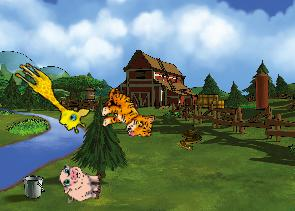giraffe: (5, 58, 95, 137)
pig: (59, 163, 102, 203)
tiger: (97, 86, 158, 140)
